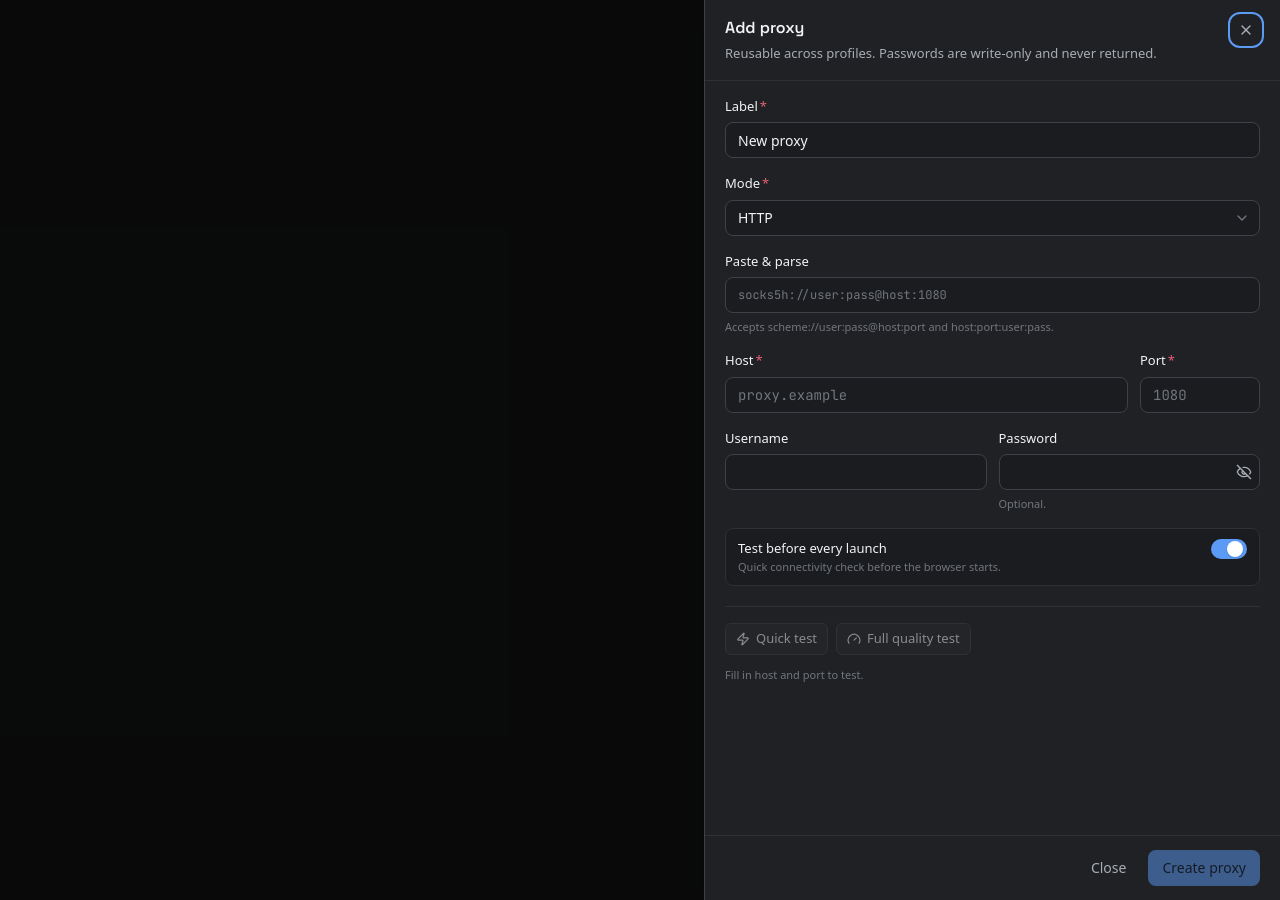
Test: ProxyEditorDrawer authoritative testing › keeps typed values and a quality error through the parent create refetch
The width and height of the screenshot is (1280, 900).
Type "socks5://new-user:new-secret@198.51.100.42:1080" into the field with placeholder "socks5h://user:pass@host:1080" at (992, 295), box [725,277,1260,313]
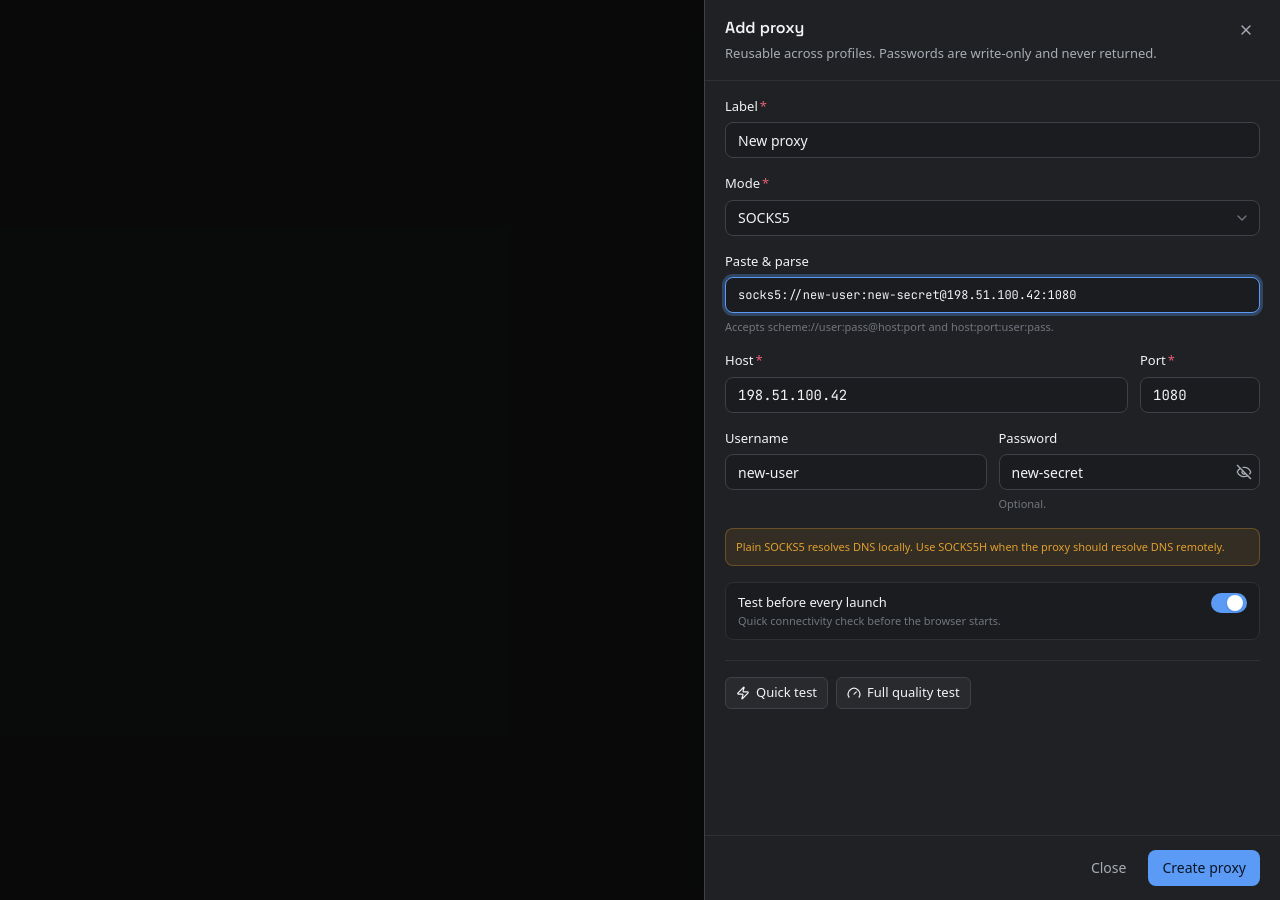
Click the button "Full quality test" at (903, 692), box [836,676,971,708]
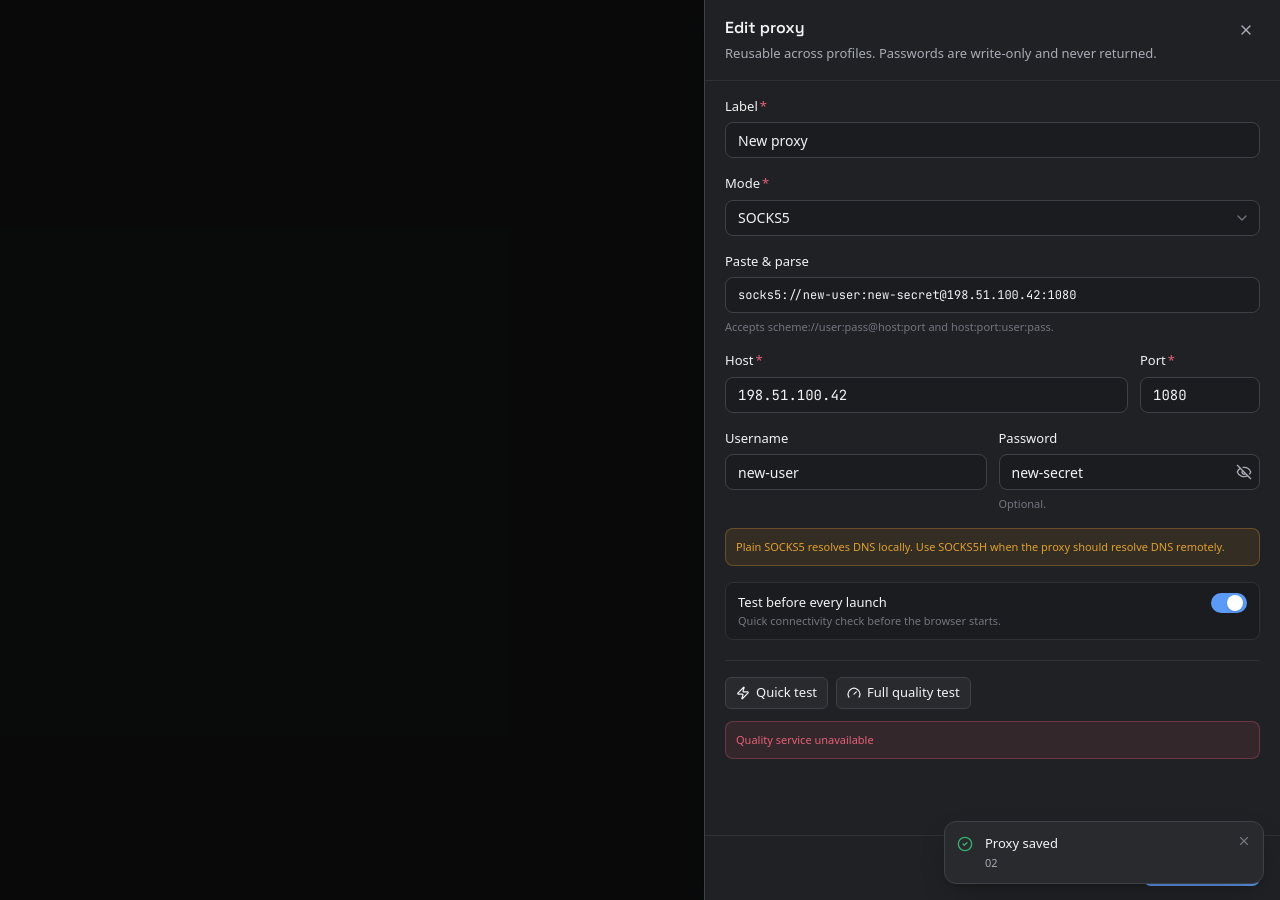
Check: the 3rd field with placeholder "proxy.example" holds "198.51.100.42", box [725,376,1128,412]
Check: the field named "Password" holds "new-secret", box [998,454,1260,490]
Check: the text "Quality service unavailable" is shown, box [725,720,1260,758]
